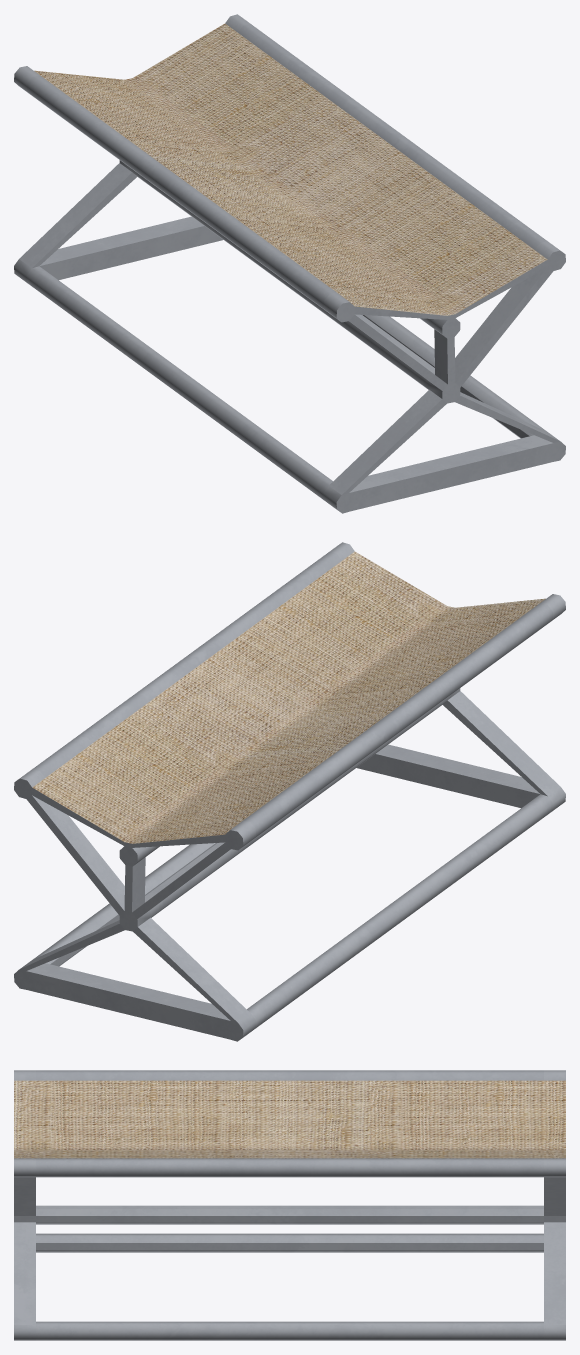
The model's file is Carryage.FBX.
The picture shows the model from 3 angles, top to bottom: view 1: azimuth 30°, elevation 25°; view 2: azimuth 150°, elevation 25°; view 3: azimuth 270°, elevation 25°; orthographic projection. The views are drawn at different scales.
Visible parts, largest first — view 1: Cylinder002; view 2: Cylinder002; view 3: Cylinder002.
Boxes of the visible parts, x1,y1,x2,y2 form: Cylinder002: (14,14,565,513); Cylinder002: (14,542,565,1041); Cylinder002: (14,1070,565,1340).
Bounding box in the file's own units: 34.03 × 29.8 × 82.94.
1 material, 1 textured.
